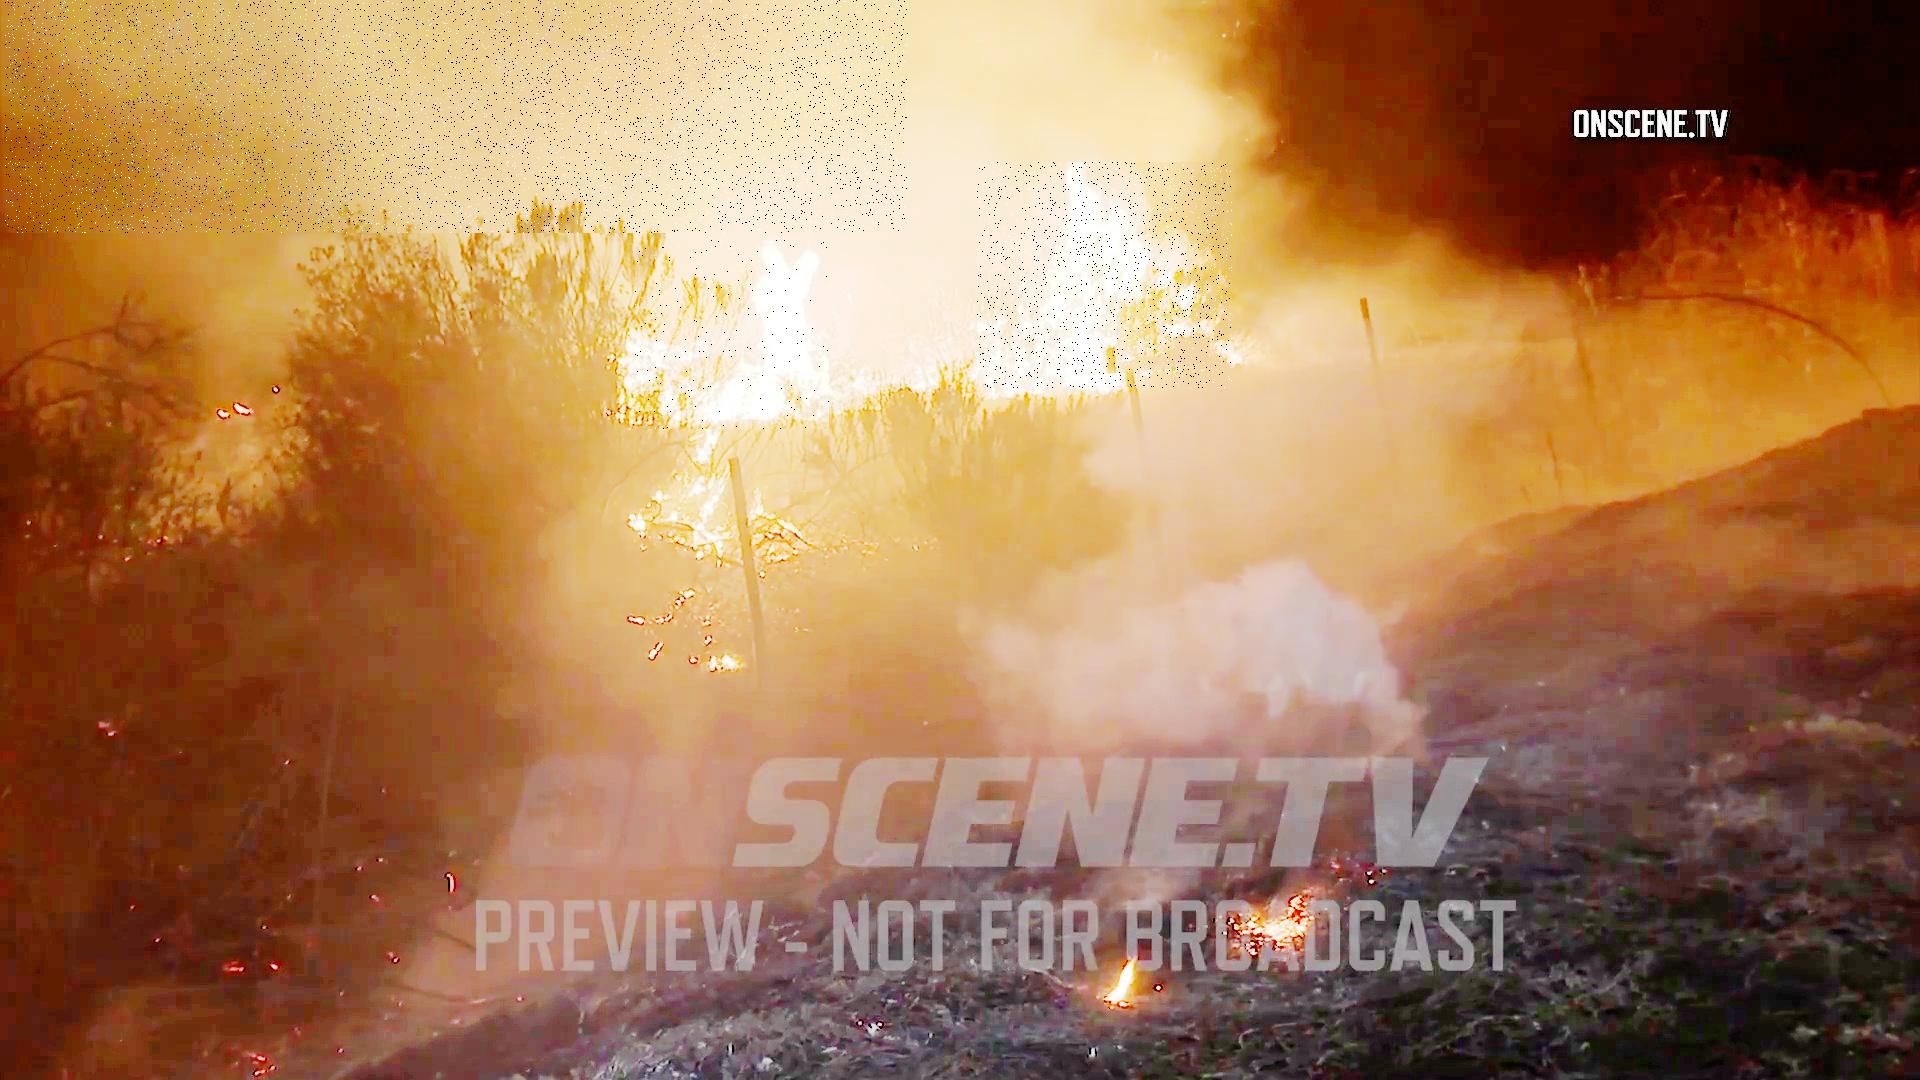fire: (978, 162, 1233, 389), (636, 240, 829, 429)
smoke: (5, 0, 909, 233)
